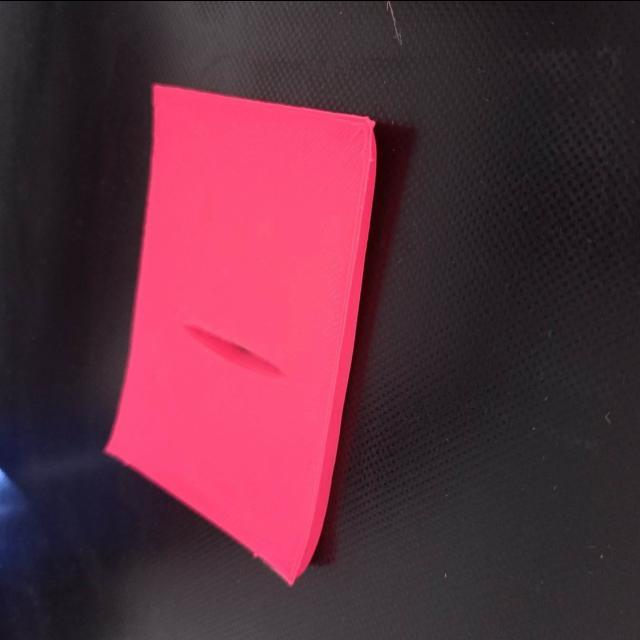Warping: (280, 529, 320, 589), (363, 116, 393, 170)
